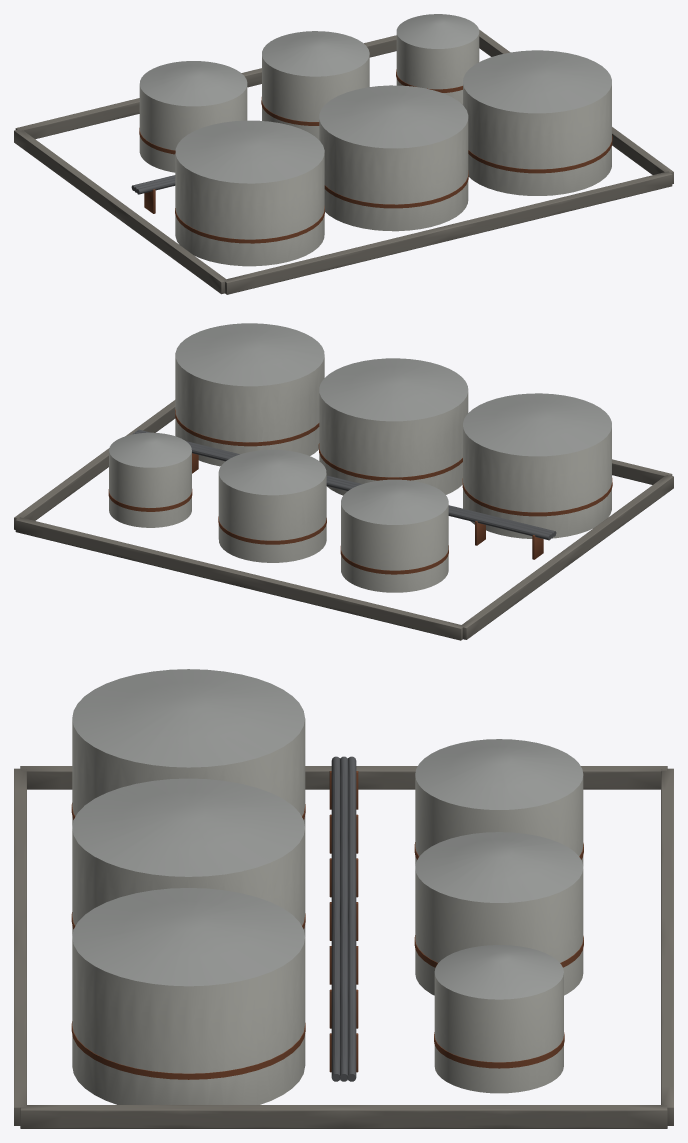
Rendered from oil_depot.glb.
The picture shows the model from 3 angles, top to bottom: view 1: azimuth 30°, elevation 25°; view 2: azimuth 150°, elevation 25°; view 3: azimuth 270°, elevation 25°; orthographic projection. The views are drawn at different scales.
Visible parts, largest first — view 1: Cone; view 2: Cone; view 3: Cone.
Boxes of the visible parts, x1=… form: Cone: x1=14, y1=14, x2=673, y2=294; Cone: x1=14, y1=323, x2=673, y2=640; Cone: x1=14, y1=669, x2=673, y2=1128.
Size of the model in its own units: 63 by 12.3 by 51.
